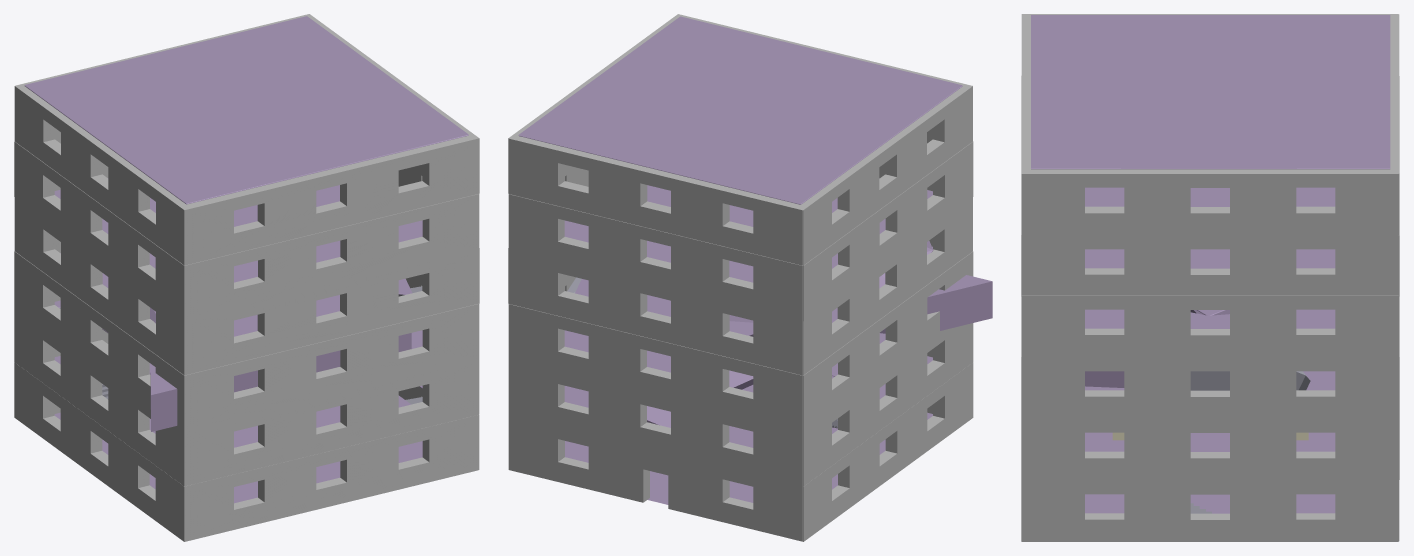
The model's file is B2_floored.fbx.
3 renders of one model, left to right at view 1: azimuth 30°, elevation 25°; view 2: azimuth 150°, elevation 25°; view 3: azimuth 270°, elevation 25°, orthographic. The views are drawn at different scales.
Visible parts, largest first — view 1: pasted__pasted__pasted__pasted__Wall37 (×4), Floor8, pasted__pasted__pasted__pasted__pasted__Wall37 (×3), pasted__pasted__pasted__Wall37 (×3), pasted__pasted__pasted__pasted__pasted__pasted__Wall37, pasted__pasted__Wall37 (×2), cornerBLock, Floor7, Floor, Floor4, pasted__Wall37, floor5_Floor6; view 2: Floor8, pasted__pasted__Wall37 (×4), pasted__Wall37 (×2), pasted__pasted__pasted__pasted__Wall37 (×3), pasted__pasted__pasted__Wall37 (×2), Wall24, Wall37, pasted__pasted__pasted__pasted__pasted__Wall37, cornerBLock, Floor7, Floor, Floor5 (+2 smaller); view 3: Floor8, pasted__pasted__Wall37 (×2), pasted__pasted__pasted__Wall37 (×2), pasted__Wall37 (×2), pasted__pasted__pasted__pasted__Wall37 (×2), Floor7, Floor, Floor4, floor5_Floor6, cornerBLock, pCube1, Floor5.
Part boxes in pixels (x1=…): pasted__pasted__pasted__pasted__Wall37 (×4): x1=14, y1=133, x2=478, y2=486; Floor8: x1=24, y1=16, x2=468, y2=204; pasted__pasted__pasted__pasted__pasted__Wall37 (×3): x1=14, y1=194, x2=478, y2=541; pasted__pasted__pasted__Wall37 (×3): x1=14, y1=83, x2=478, y2=430; pasted__pasted__pasted__pasted__pasted__pasted__Wall37: x1=184, y1=415, x2=478, y2=541; pasted__pasted__Wall37 (×2): x1=14, y1=14, x2=479, y2=375; cornerBLock: x1=150, y1=295, x2=411, y2=431; Floor7: x1=54, y1=178, x2=422, y2=282; Floor: x1=54, y1=412, x2=422, y2=503; Floor4: x1=54, y1=356, x2=422, y2=447; pasted__Wall37: x1=16, y1=14, x2=314, y2=137; floor5_Floor6: x1=60, y1=253, x2=412, y2=336; Floor8: x1=518, y1=16, x2=962, y2=204; pasted__pasted__Wall37 (×4): x1=508, y1=14, x2=972, y2=486; pasted__Wall37 (×2): x1=508, y1=134, x2=808, y2=430; pasted__pasted__pasted__pasted__Wall37 (×3): x1=673, y1=14, x2=973, y2=486; pasted__pasted__pasted__Wall37 (×2): x1=792, y1=86, x2=973, y2=430; Wall24: x1=508, y1=415, x2=802, y2=541; Wall37: x1=508, y1=250, x2=802, y2=375; pasted__pasted__pasted__pasted__pasted__Wall37: x1=803, y1=362, x2=973, y2=541; cornerBLock: x1=880, y1=275, x2=992, y2=333; Floor7: x1=564, y1=185, x2=932, y2=282; Floor: x1=565, y1=412, x2=932, y2=504; Floor5: x1=564, y1=330, x2=885, y2=392; Floor8: x1=1031, y1=15, x2=1390, y2=169; pasted__pasted__Wall37 (×2): x1=1021, y1=167, x2=1398, y2=418; pasted__pasted__pasted__Wall37 (×2): x1=1021, y1=235, x2=1398, y2=480; pasted__Wall37 (×2): x1=1021, y1=14, x2=1399, y2=357; pasted__pasted__pasted__pasted__Wall37 (×2): x1=1021, y1=14, x2=1398, y2=541; Floor7: x1=1085, y1=187, x2=1335, y2=268; Floor: x1=1085, y1=494, x2=1335, y2=513; Floor4: x1=1085, y1=432, x2=1335, y2=451; floor5_Floor6: x1=1087, y1=309, x2=1335, y2=328; cornerBLock: x1=1085, y1=309, x2=1124, y2=387; pCube1: x1=1190, y1=371, x2=1310, y2=390; Floor5: x1=1085, y1=371, x2=1335, y2=390.
Size of the model in its own units: 27.34 by 27.13 by 25.08.
